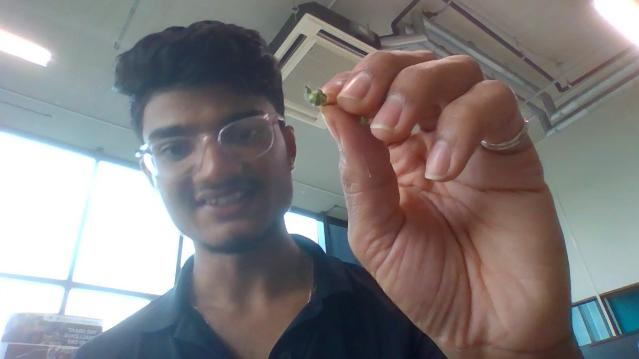Fruit Bud: (304, 85, 326, 107)
